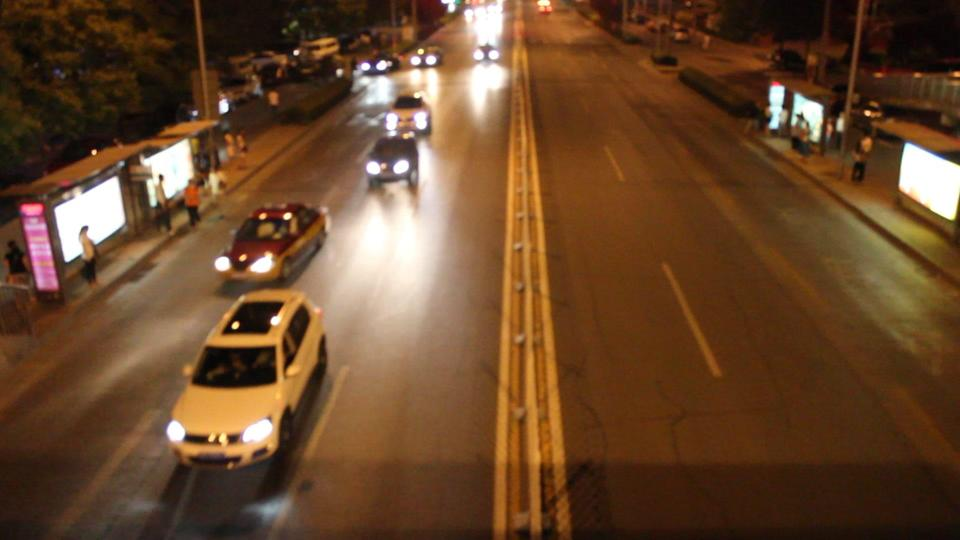car: (213, 201, 330, 289), (386, 93, 431, 138), (361, 53, 402, 74), (410, 44, 442, 68)
microbus: (298, 36, 340, 65)
suv: (164, 289, 328, 473), (362, 134, 417, 194)
